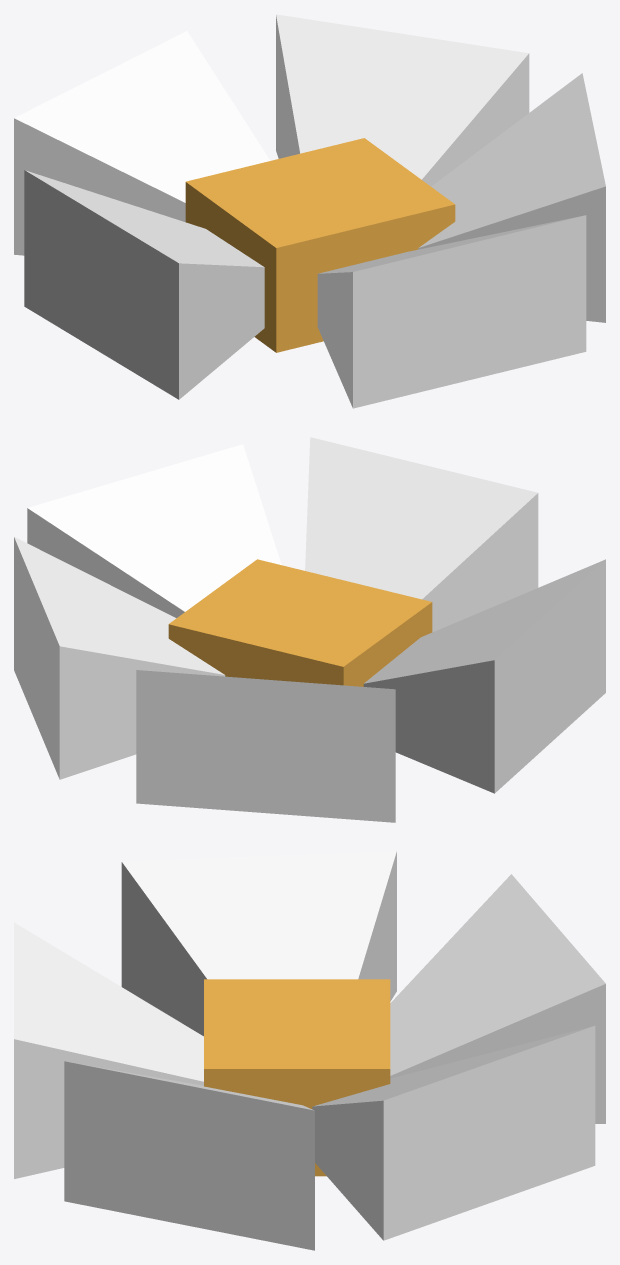
File: DustFlower.FBX
3 views of the same model, one above another, from view 1: azimuth 30°, elevation 25°; view 2: azimuth 150°, elevation 25°; view 3: azimuth 270°, elevation 25° (orthographic). The views are drawn at different scales.
Visible parts, largest first — view 1: DustFlower; view 2: DustFlower; view 3: DustFlower.
Boxes of the visible parts, x1,y1,x2,y2 form: DustFlower: [14, 14, 605, 408]; DustFlower: [14, 437, 605, 822]; DustFlower: [14, 851, 605, 1250].
Bounding box in the file's own units: 5.55 × 5.35 × 1.56.
